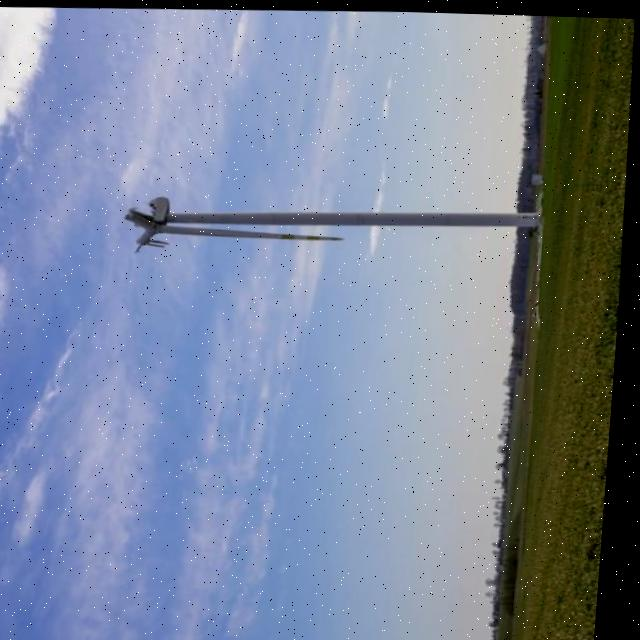damaged-blade: (138, 228, 171, 250), (126, 210, 157, 228)
solid-blade: (160, 225, 344, 238)
